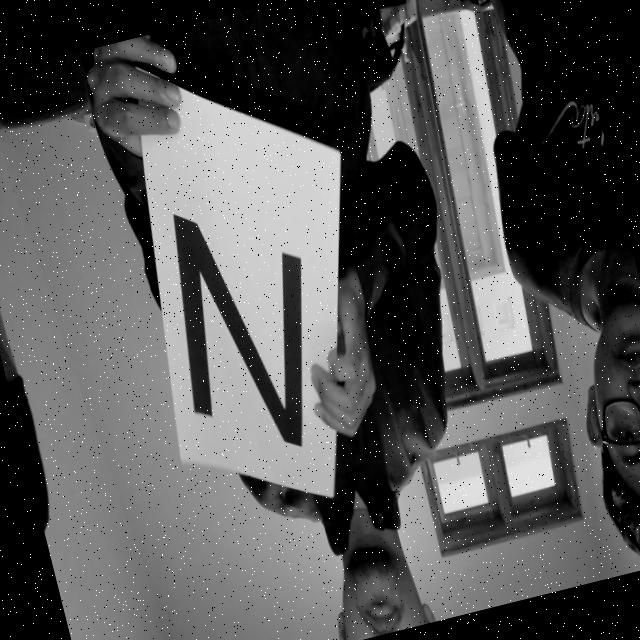n: (132, 148, 353, 497)
